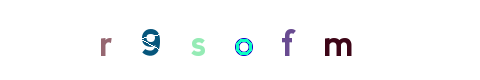9: (162, 0, 242, 80)
F: (204, 0, 284, 80)
M: (297, 0, 377, 80)
O: (200, 0, 280, 80)
R: (125, 0, 205, 80)
S: (191, 0, 271, 80)
